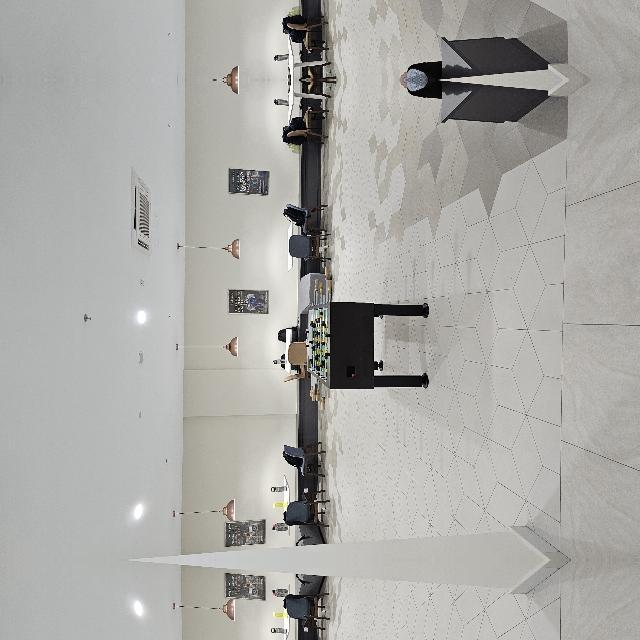obstacle: (168, 384, 260, 511), (436, 451, 479, 640), (436, 477, 479, 640), (168, 609, 260, 640)
